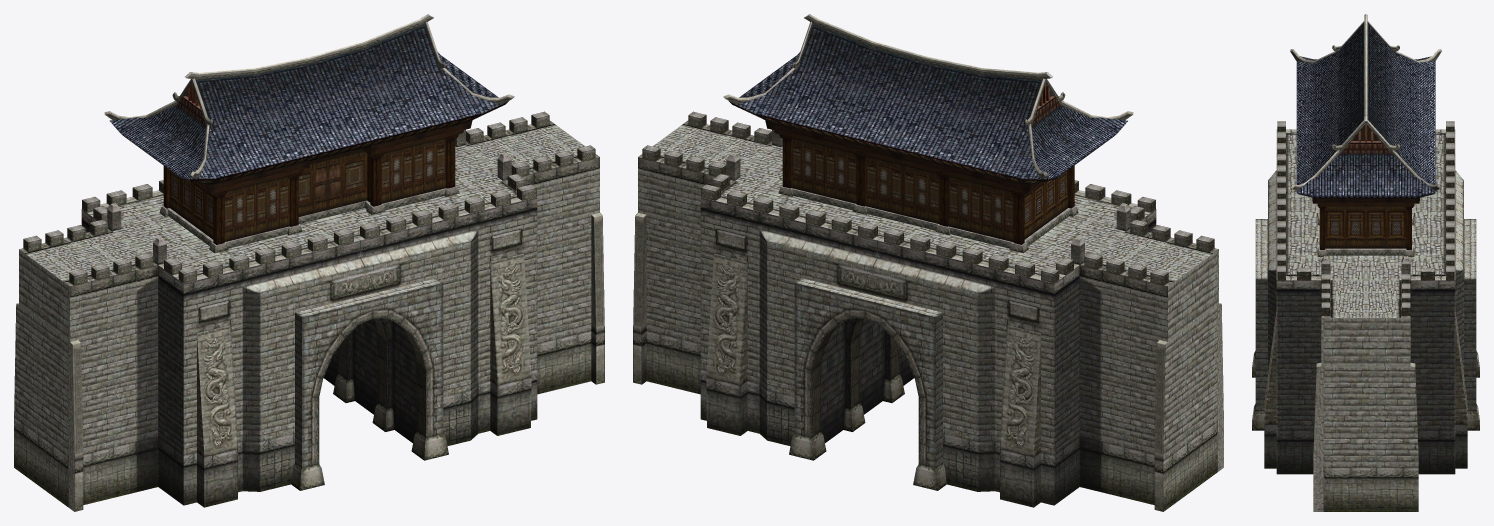
Rendered from b1-bigdam-01.glb.
3 views of the same model, side by side, from view 1: azimuth 30°, elevation 25°; view 2: azimuth 150°, elevation 25°; view 3: azimuth 270°, elevation 25° (orthographic). The views are drawn at different scales.
Parts seen in each view (by area): view 1: b1-bigdam-01; view 2: b1-bigdam-01; view 3: b1-bigdam-01.
Boxes of the visible parts, x1,y1,x2,y2 form: b1-bigdam-01: (14, 14, 604, 511); b1-bigdam-01: (633, 14, 1223, 511); b1-bigdam-01: (1252, 14, 1479, 511).
Bounding box in the file's own units: 60 × 41.32 × 25.52.
Materials: 3 (3 with a texture image).
